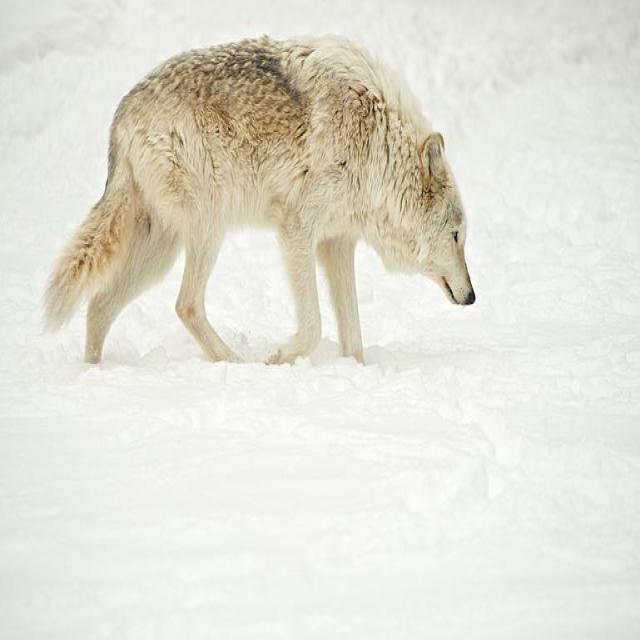Wolf: (41, 31, 476, 368)
